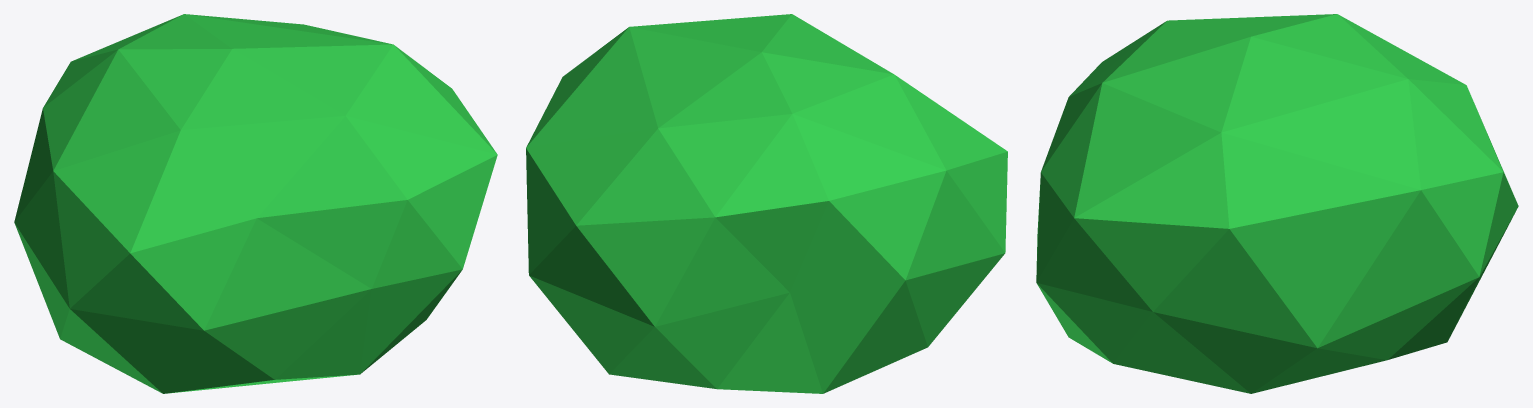
The model's file is bush_lil.fbx.
3 views of the same model, side by side, from view 1: azimuth 30°, elevation 25°; view 2: azimuth 150°, elevation 25°; view 3: azimuth 270°, elevation 25° (orthographic). The views are drawn at different scales.
Visible parts, largest first — view 1: bush1; view 2: bush1; view 3: bush1.
Part boxes in pixels (bbox=[...]): bush1: bbox=[14, 14, 497, 393]; bush1: bbox=[526, 14, 1007, 393]; bush1: bbox=[1036, 14, 1518, 393].
Size of the model in its own units: 2.13 by 1.34 by 2.08.
